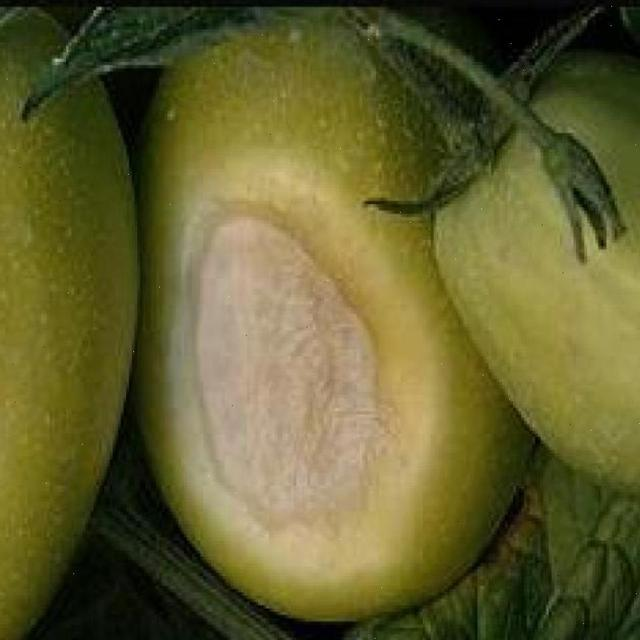Sunscald Fruit: (126, 105, 282, 368)
